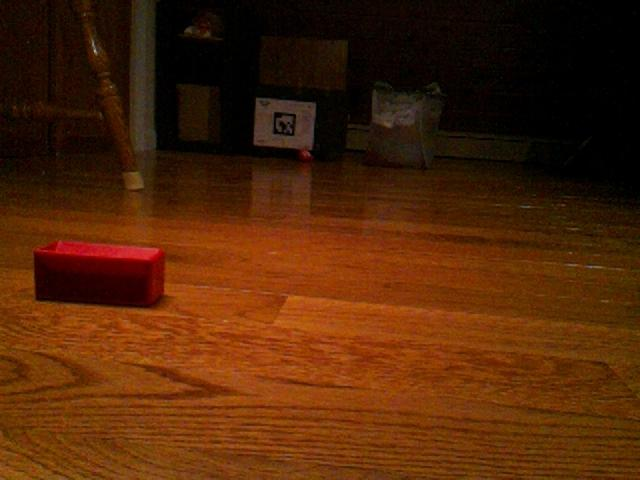red: (33, 238, 167, 308)
